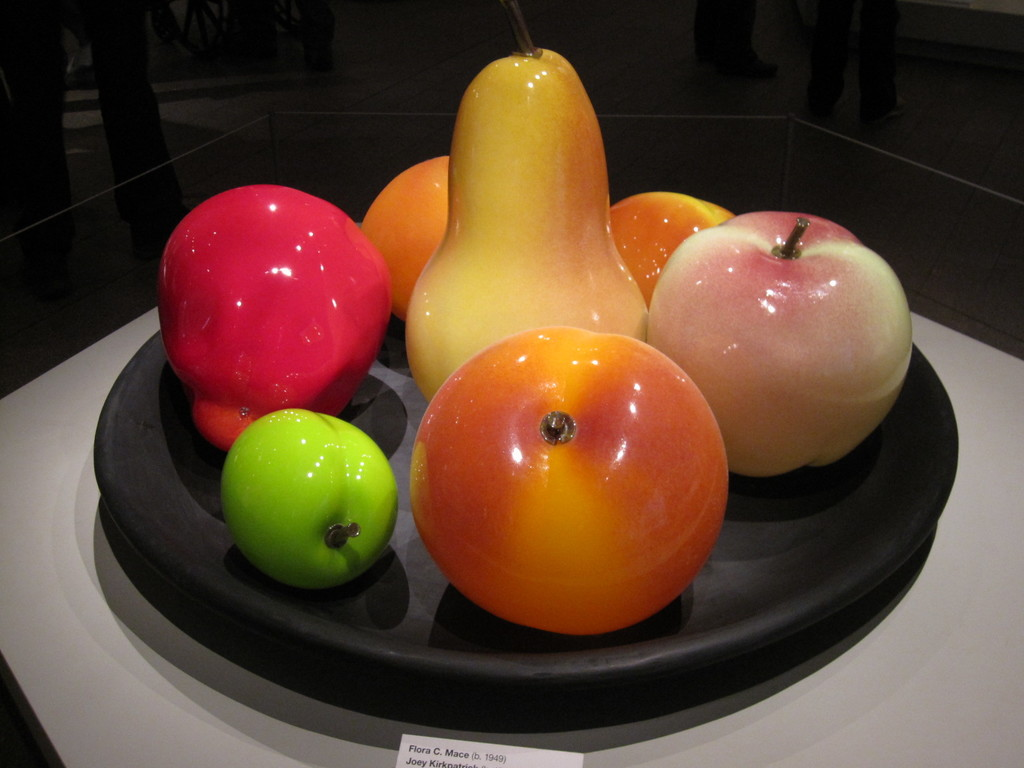Apple: (639, 202, 919, 493), (217, 408, 399, 591)
